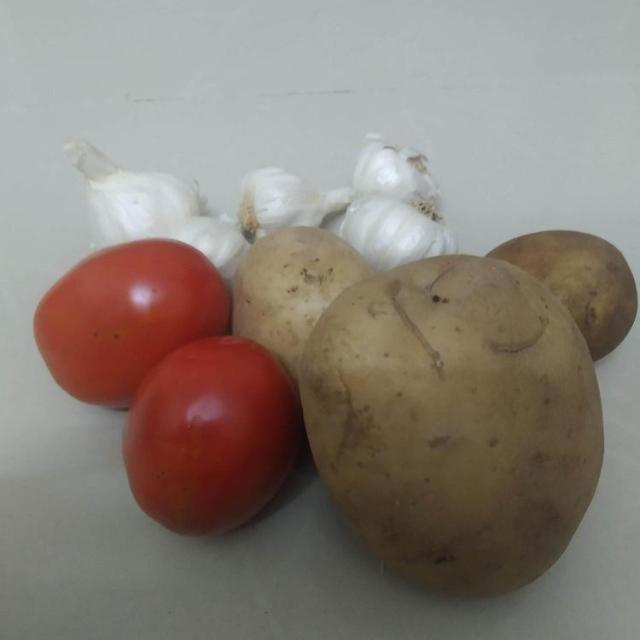Organik: (302, 254, 616, 610), (114, 335, 298, 562), (26, 241, 229, 410), (237, 230, 370, 347), (66, 139, 209, 243), (234, 164, 343, 240), (339, 197, 450, 270)
